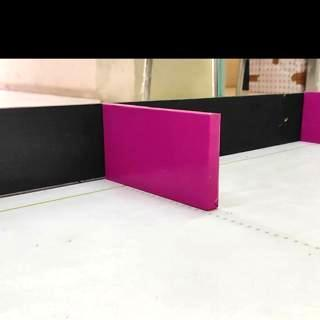xparking: (107, 116, 219, 196), (305, 92, 320, 140)
